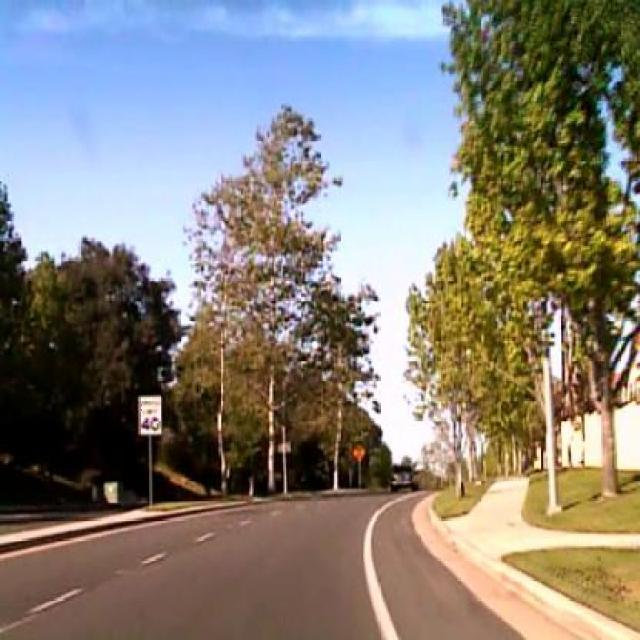speedLimit40: (138, 396, 161, 436)
